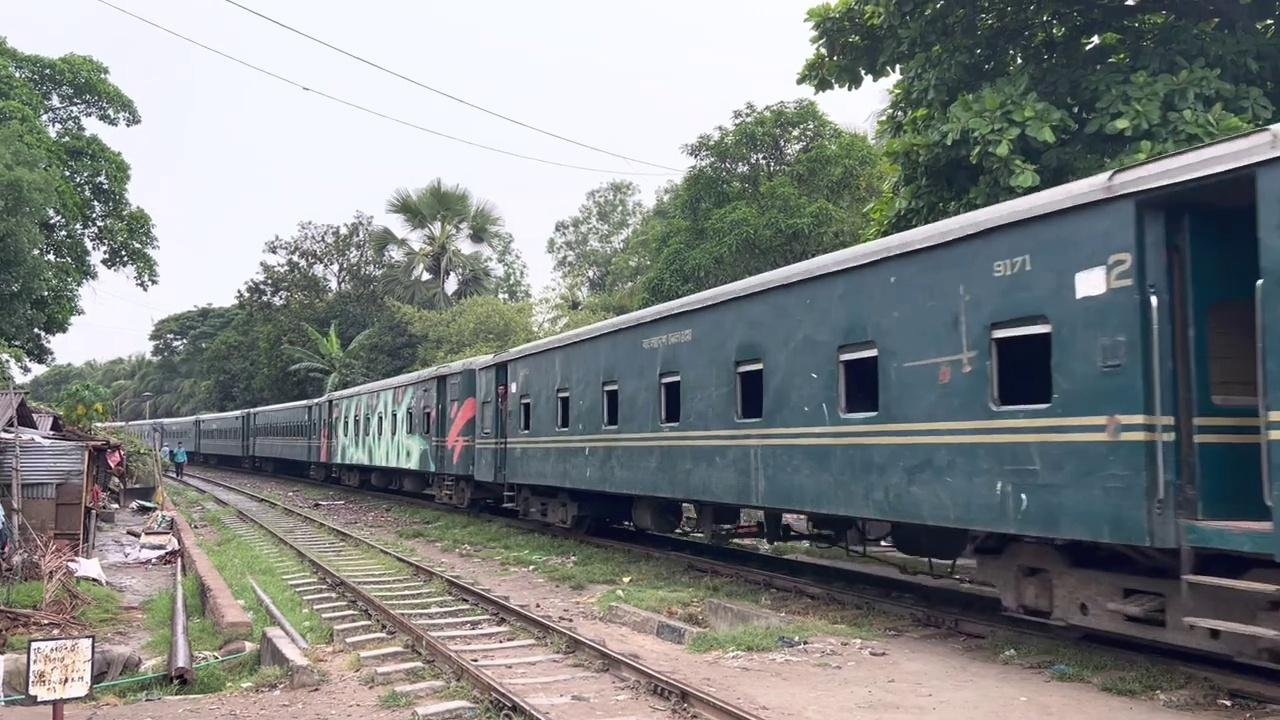Car: (164, 493, 253, 638)
Fence: (171, 441, 187, 479)
Garbage: (1147, 287, 1165, 505), (149, 423, 165, 510)
Pothole: (26, 634, 94, 701)
Potted-plant: (92, 120, 1280, 669)
Railroad-crossing: (609, 96, 887, 311), (366, 176, 505, 312)
